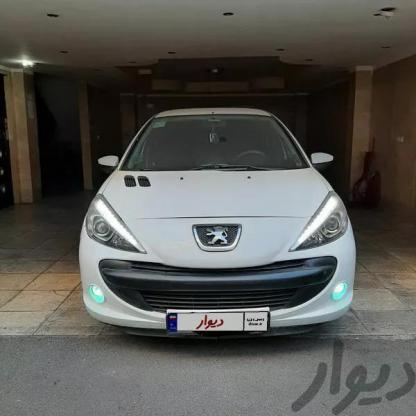Car: (74, 93, 362, 362)
